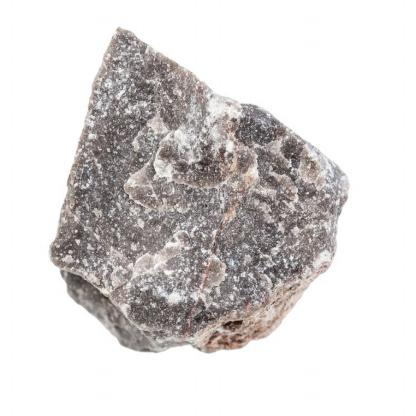Sedimentary_Limestone: (39, 0, 356, 366)
